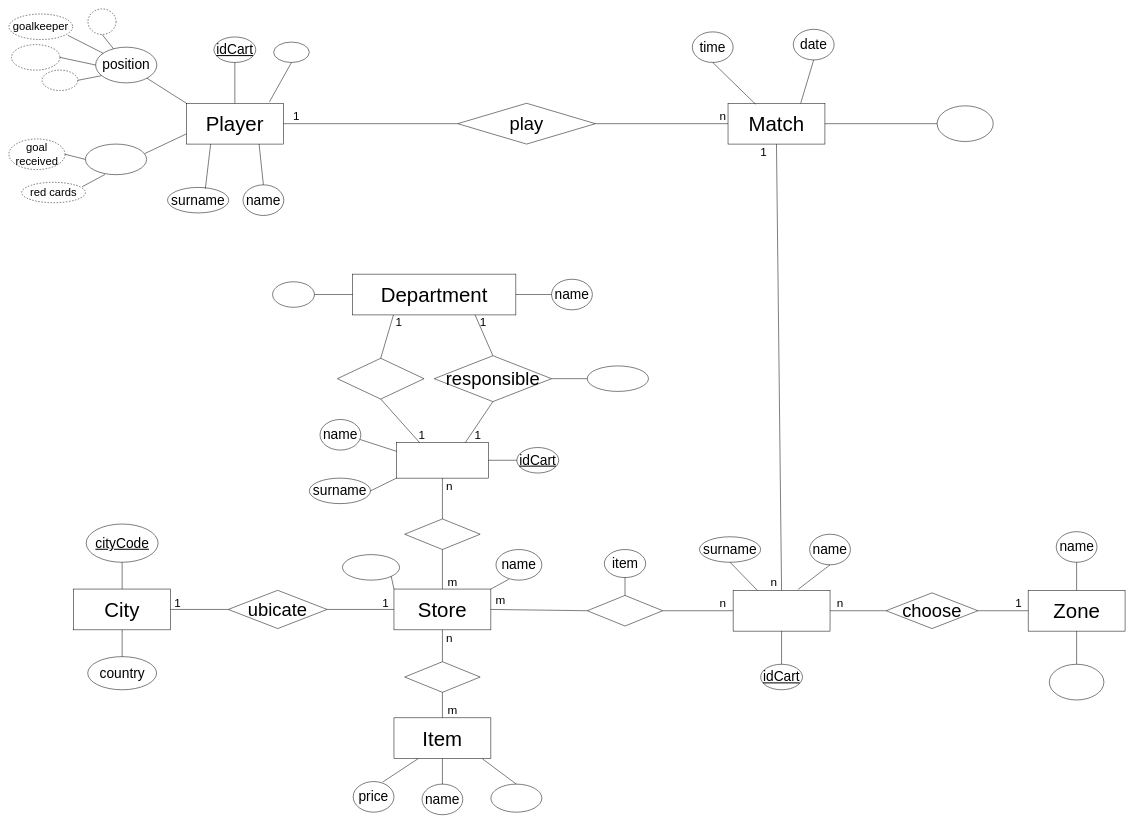
Image size: 1134x824. Some labels were removed from this diagram. The shapes that lost their labels are listed below. From the top down, each one's centre as x and y in pixels, then its label:
the point at 101,21: mid
the point at 35,57: defender
the point at 291,52: age
the point at 60,80: striker
the point at 965,123: final result
the point at 116,159: statistcics
the point at 293,294: id
the point at 380,378: belong
the point at 617,378: manager
the point at 442,460: Staff
the point at 442,534: work
the point at 371,567: idStore
the point at 625,610: buy
the point at 781,610: Supporter
the point at 442,676: sell
the point at 1076,682: idZone
the point at 516,798: itCode
